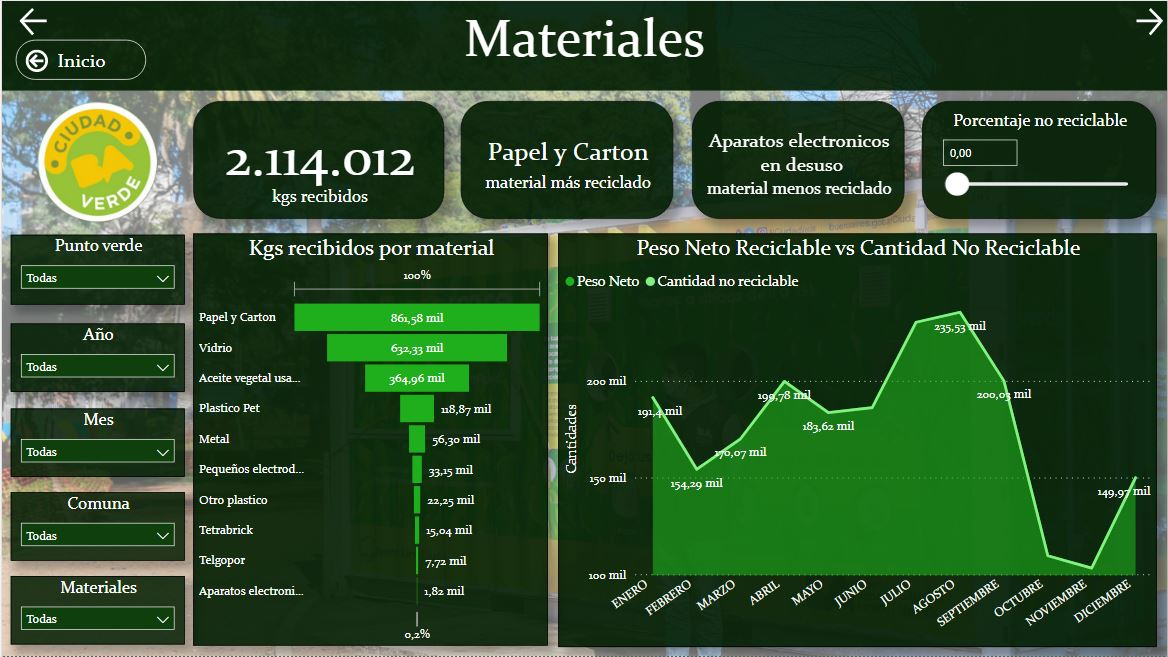

What the dashboard file says about the page in this screenshot:
{"tool":"powerbi","page":{"name":"Materiales","canvas":[1280,720],"ordinal":3},"visuals":[{"type":"textbox","box":[0,0,1280.3,98],"z":0},{"type":"card","fields":{"Values":["Materiales.Total Pesaje"]},"box":[210,110,275.9,129.5],"z":1000},{"type":"slicer","title":"Porcentaje no reciclable","fields":{"Values":["% No Reciclable.% No Reciclable"]},"box":[1011.2,110,257.7,129.5],"z":2000},{"type":"stackedAreaChart","title":"Peso Neto Reciclable vs Cantidad No Reciclable","fields":{"Category":["Tabla Calendario.Mes (grupos)"],"Y":["Materiales.Peso Neto","Materiales.Cantidad no reciclable"]},"box":[611.4,254.9,657.4,454.1],"z":3000},{"type":"actionButton","box":[1179.7,2.7,100.3,39.8],"z":4000},{"type":"actionButton","box":[15.1,2.7,100.3,39.8],"z":5000},{"type":"actionButton","box":[15.1,42.6,142.8,43.9],"z":6000},{"type":"card","fields":{"Values":["Cantidad por material.Max material"]},"box":[504.2,110,234,129.5],"z":7000},{"type":"card","fields":{"Values":["Cantidad por material.Min material"]},"box":[757.7,110,234,129.5],"z":8000},{"type":"funnel","title":"Kgs recibidos por material","fields":{"Category":["Materiales.Materiales"],"Y":["Materiales.Total Pesaje"]},"box":[210,255.3,389.6,453],"z":9000},{"type":"slicer","title":"Punto verde","fields":{"Values":["Punto_Verde.Nombre_pv"]},"box":[9.7,256.3,190.8,76.6],"z":10000},{"type":"slicer","title":"Año","fields":{"Values":["Tabla Calendario.Año"]},"box":[9.7,353.8,190.8,75.2],"z":11000},{"type":"slicer","title":"Mes","fields":{"Values":["Tabla Calendario.Mes (grupos)"]},"box":[9.7,447.1,190.8,75.2],"z":12000},{"type":"slicer","title":"Comuna","fields":{"Values":["Direccion.Comuna"]},"box":[9.7,540.4,190.8,75.2],"z":13000},{"type":"slicer","title":"Materiales","fields":{"Values":["Materiales.Materiales"]},"box":[9.7,632.3,190.8,75.2],"z":14000},{"type":"image","box":[0,102.4,210.7,150.1],"z":15000}]}

Visuals, with their boxes in screenshot pixels (x1, y1, x2, y2), scaled from the page's 1280x720 canvas onto the 1168x657 screenshot:
textbox: (left=0, top=0, right=1167, bottom=89)
card - Materiales.Total Pesaje: (left=192, top=100, right=443, bottom=219)
"Porcentaje no reciclable" slicer: (left=923, top=100, right=1158, bottom=219)
"Peso Neto Reciclable vs Cantidad No Reciclable" stackedAreaChart: (left=558, top=233, right=1158, bottom=647)
actionButton: (left=1076, top=2, right=1167, bottom=39)
actionButton: (left=14, top=2, right=105, bottom=39)
actionButton: (left=14, top=39, right=144, bottom=79)
card - Cantidad por material.Max material: (left=460, top=100, right=674, bottom=219)
card - Cantidad por material.Min material: (left=691, top=100, right=905, bottom=219)
"Kgs recibidos por material" funnel: (left=192, top=233, right=547, bottom=646)
"Punto verde" slicer: (left=9, top=234, right=183, bottom=304)
"Año" slicer: (left=9, top=323, right=183, bottom=391)
"Mes" slicer: (left=9, top=408, right=183, bottom=477)
"Comuna" slicer: (left=9, top=493, right=183, bottom=562)
"Materiales" slicer: (left=9, top=577, right=183, bottom=646)
image: (left=0, top=93, right=192, bottom=230)
